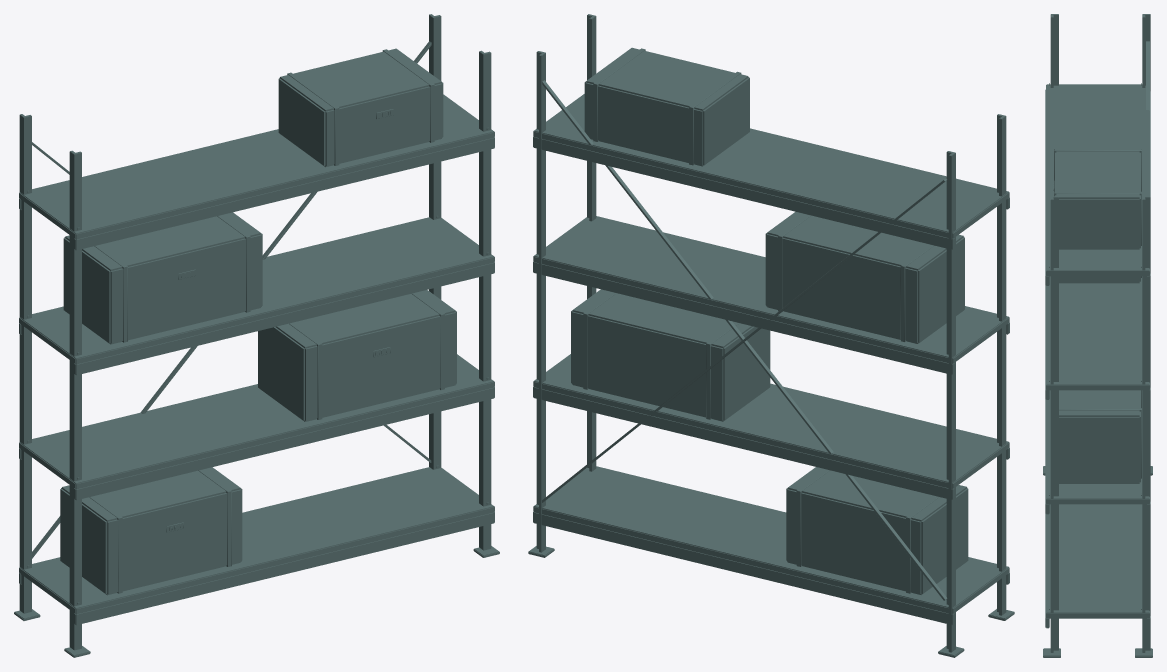
The model's file is OBJ-028_EstanteriaIndustrial.fbx.
3 views of the same model, side by side, from view 1: azimuth 30°, elevation 25°; view 2: azimuth 150°, elevation 25°; view 3: azimuth 270°, elevation 25° (orthographic). The views are drawn at different scales.
Visible parts, largest first — view 1: GEO-OBJ-028_EstanteriaIndustrial.004; view 2: GEO-OBJ-028_EstanteriaIndustrial.004; view 3: GEO-OBJ-028_EstanteriaIndustrial.004.
Part boxes in pixels (box(x1,y1,x2,y2)): GEO-OBJ-028_EstanteriaIndustrial.004: box(14, 14, 499, 657); GEO-OBJ-028_EstanteriaIndustrial.004: box(528, 14, 1014, 657); GEO-OBJ-028_EstanteriaIndustrial.004: box(1043, 14, 1152, 657).
Size of the model in its own units: 2.5 by 2.8 by 0.61.
